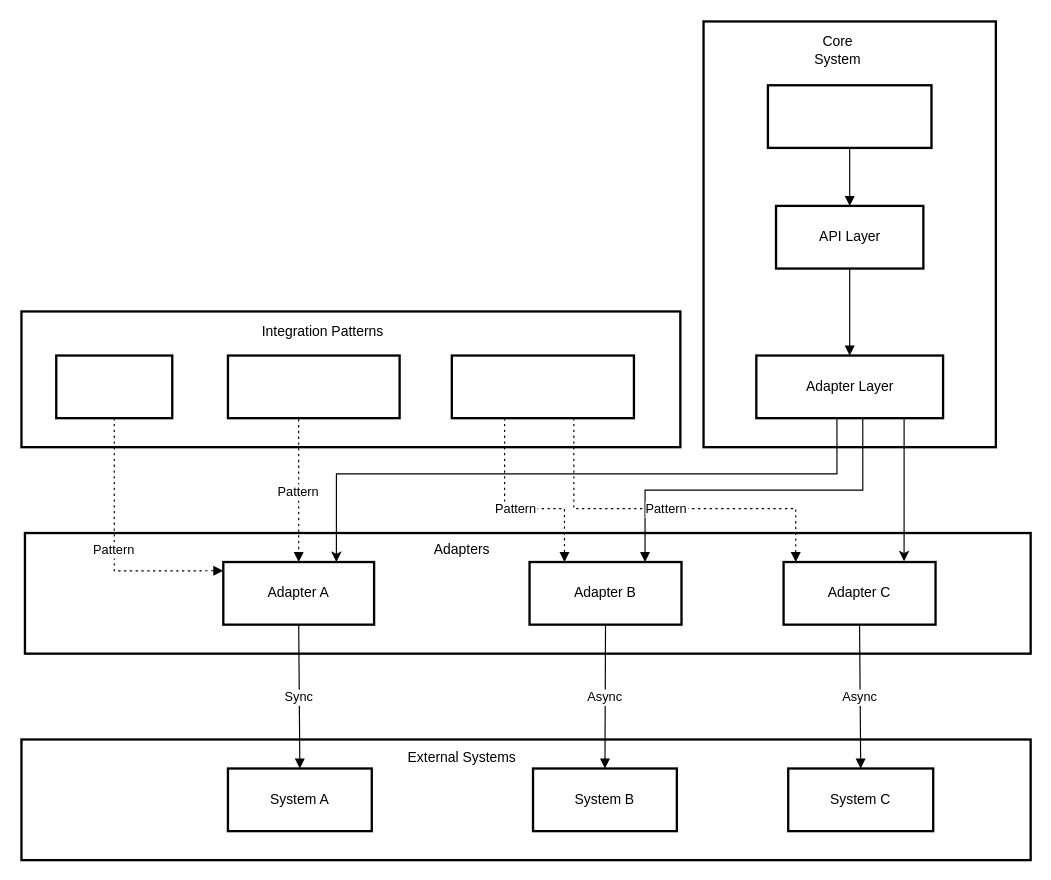
The diagram is 1051 pixels wide and 880 high, and some of its shapes have lost their labels. The centre of each missing label's shape, as x and y in pixels:
Application: the point at 849,116
Asynchronous: the point at 542,386
Batch: the point at 114,386
Synchronous: the point at 313,386
